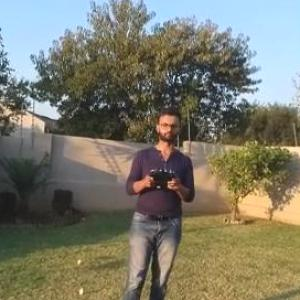follow: (113, 101, 198, 299)
